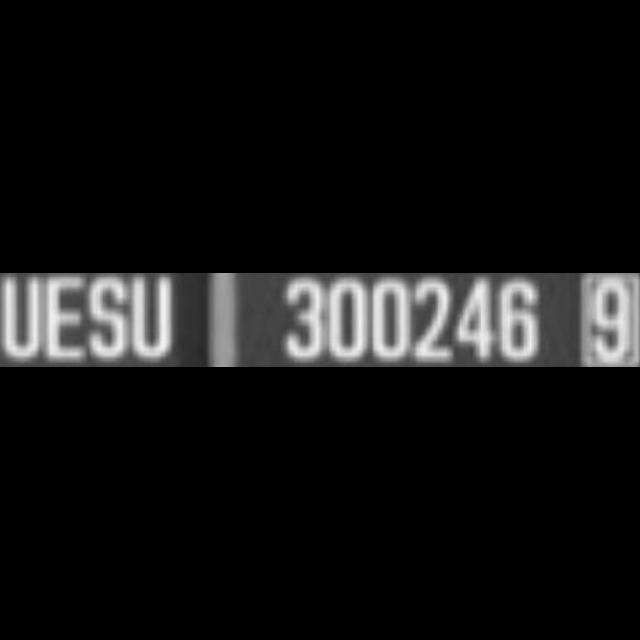0: (326, 274, 370, 364), (372, 276, 411, 366)
2: (413, 274, 455, 364)
3: (284, 274, 324, 362)
4: (454, 274, 498, 364)
6: (499, 274, 541, 366)
9: (592, 275, 630, 367)
e: (44, 273, 86, 359)
s: (86, 273, 130, 363)
u: (130, 273, 178, 367), (0, 273, 42, 363)
